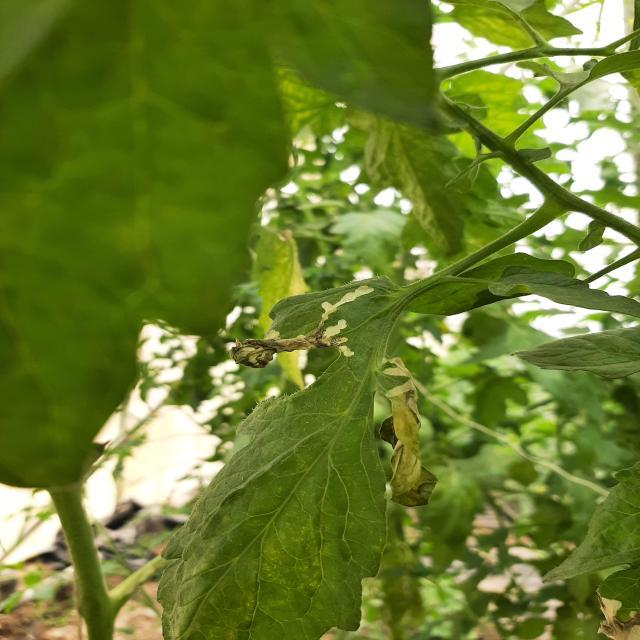Tuta absoluta: (225, 312, 351, 375), (309, 278, 377, 329)
